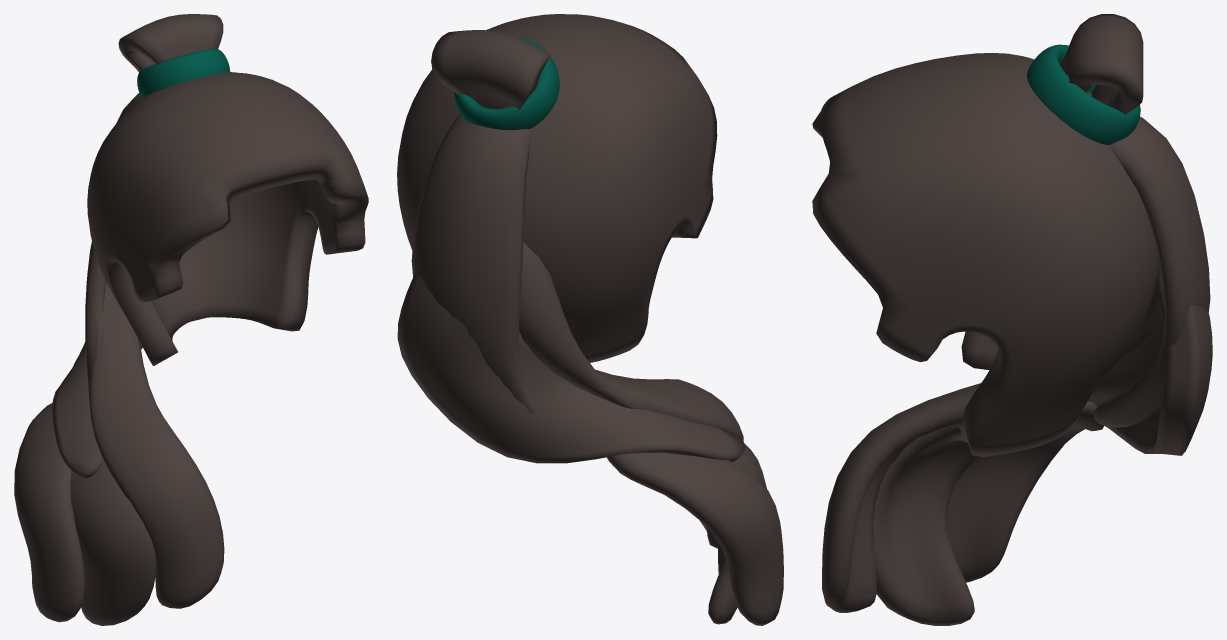
The model's file is head4.glb.
The picture shows the model from 3 angles, left to right: view 1: azimuth 30°, elevation 25°; view 2: azimuth 150°, elevation 25°; view 3: azimuth 270°, elevation 25°; orthographic projection. The views are drawn at different scales.
Visible parts, largest first — view 1: Gabriela Ekaireb_Hair, GE_HairBand05, GE_HairBand06, GE_HairBand04, GE_HairBand03, GE_HairBand01, GE_HairRubber; view 2: Gabriela Ekaireb_Hair, GE_HairBand03, GE_HairBand02, GE_HairBand06, GE_HairBand05, GE_HairBand01, GE_HairRubber, GE_HairBand04; view 3: Gabriela Ekaireb_Hair, GE_HairBand04, GE_HairBand02, GE_HairBand05, GE_HairBand03, GE_HairBand06, GE_HairBand01, GE_HairRubber.
Part boxes in pixels (x1,y1,x2,y2): Gabriela Ekaireb_Hair: [87, 72, 368, 365]; GE_HairBand05: [85, 242, 224, 608]; GE_HairBand06: [14, 403, 84, 622]; GE_HairBand04: [70, 461, 156, 625]; GE_HairBand03: [52, 341, 103, 478]; GE_HairBand01: [118, 14, 223, 72]; GE_HairRubber: [137, 48, 230, 98]; Gabriela Ekaireb_Hair: [397, 14, 717, 362]; GE_HairBand03: [397, 272, 745, 463]; GE_HairBand02: [411, 114, 536, 414]; GE_HairBand06: [607, 452, 783, 625]; GE_HairBand05: [519, 242, 743, 548]; GE_HairBand01: [431, 30, 550, 109]; GE_HairRubber: [454, 37, 559, 130]; GE_HairBand04: [708, 434, 766, 624]; Gabriela Ekaireb_Hair: [812, 53, 1159, 456]; GE_HairBand04: [873, 424, 980, 625]; GE_HairBand02: [1093, 116, 1210, 427]; GE_HairBand05: [822, 282, 1162, 612]; GE_HairBand03: [948, 266, 1212, 455]; GE_HairBand06: [947, 401, 1103, 582]; GE_HairBand01: [1060, 14, 1143, 114]; GE_HairRubber: [1027, 44, 1140, 144].
Size of the model in its own units: 67.1 by 111 by 59.01.
